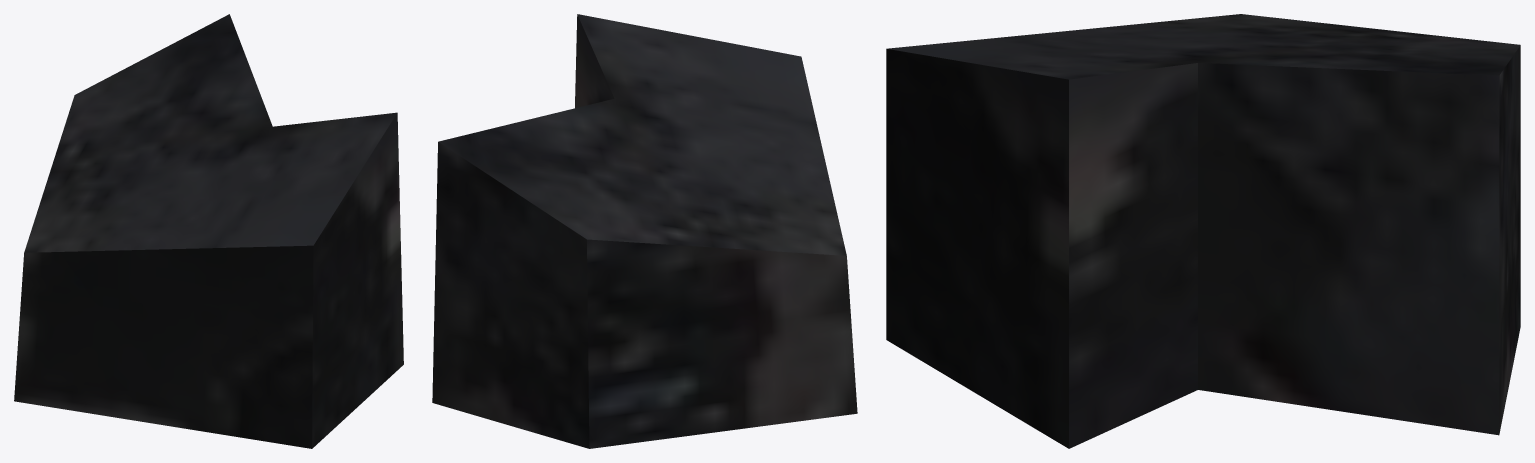
File: Ship_part_02.FBX
3 views of the same model, side by side, from view 1: azimuth 30°, elevation 25°; view 2: azimuth 150°, elevation 25°; view 3: azimuth 270°, elevation 25° (orthographic). The views are drawn at different scales.
Visible parts, largest first — view 1: Ship_part_02; view 2: Ship_part_02; view 3: Ship_part_02.
Boxes of the visible parts, box(x1,y1,x2,y2) form: Ship_part_02: box(14, 14, 403, 448); Ship_part_02: box(432, 14, 857, 448); Ship_part_02: box(886, 14, 1520, 448).
Bounding box in the file's own units: 9.93 × 11.49 × 7.29.
